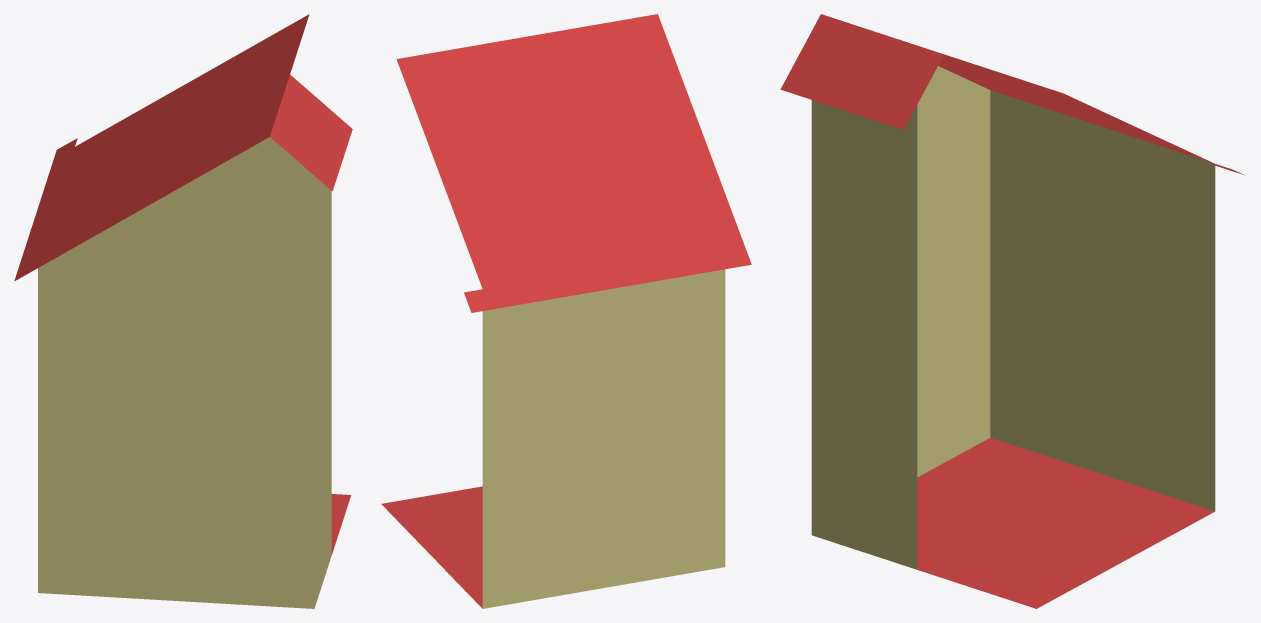
3 renders of one model, left to right at view 1: azimuth 30°, elevation 25°; view 2: azimuth 150°, elevation 25°; view 3: azimuth 270°, elevation 25°, orthographic. The views are drawn at different scales.
Size of the model in its own units: 9.83 by 10.51 by 12.45.
